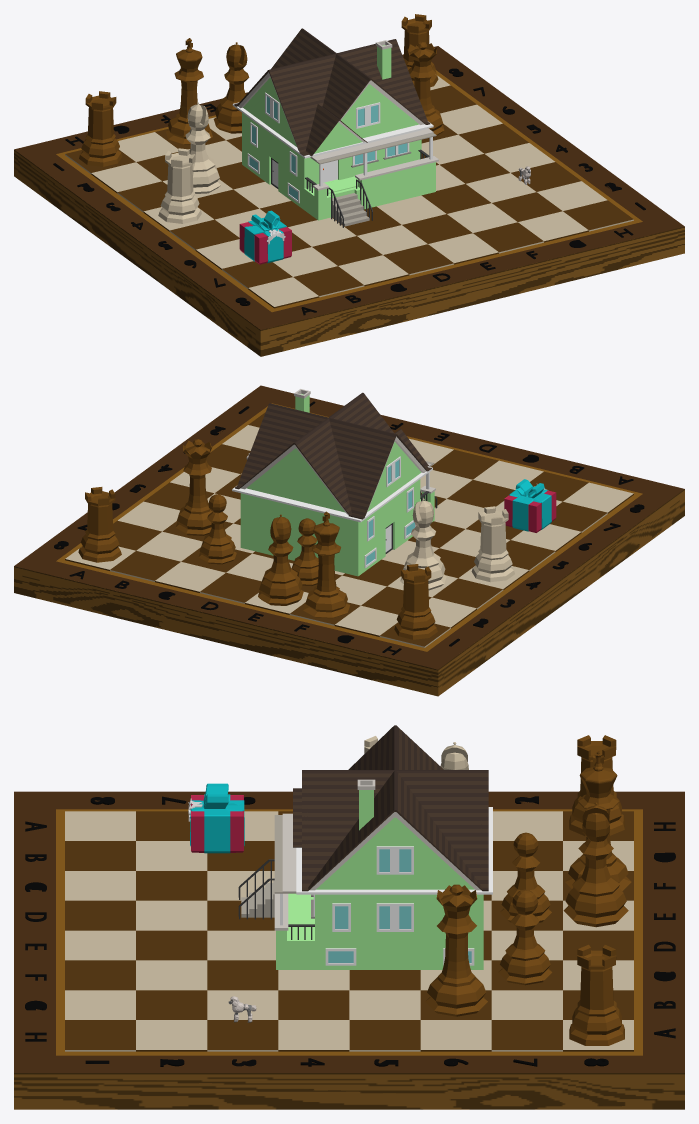
3 renders of one model, top to bottom at view 1: azimuth 30°, elevation 25°; view 2: azimuth 150°, elevation 25°; view 3: azimuth 270°, elevation 25°, orthographic. The views are drawn at different scales.
Visible parts, largest first — view 1: Cube.002, Cube.274, OBJRANDOM_GIANT_PRESENT; view 2: Cube.002, Cube.274, OBJRANDOM_GIANT_PRESENT; view 3: Cube.002, Cube.274, OBJRANDOM_GIANT_PRESENT.
Boxes of the visible parts, left/top/right/bottom form: Cube.002: left=14, top=14, right=684, bottom=356; Cube.274: left=232, top=28, right=438, bottom=227; OBJRANDOM_GIANT_PRESENT: left=239, top=210, right=291, bottom=264; Cube.002: left=14, top=385, right=684, bottom=696; Cube.274: left=232, top=389, right=437, bottom=576; OBJRANDOM_GIANT_PRESENT: left=504, top=479, right=556, bottom=532; Cube.002: left=14, top=735, right=684, bottom=1109; Cube.274: left=238, top=725, right=492, bottom=969; OBJRANDOM_GIANT_PRESENT: left=188, top=783, right=244, bottom=853.
Bounding box in the file's own units: 3981 × 1492 × 4012.
Materials: 25 (2 with a texture image).
